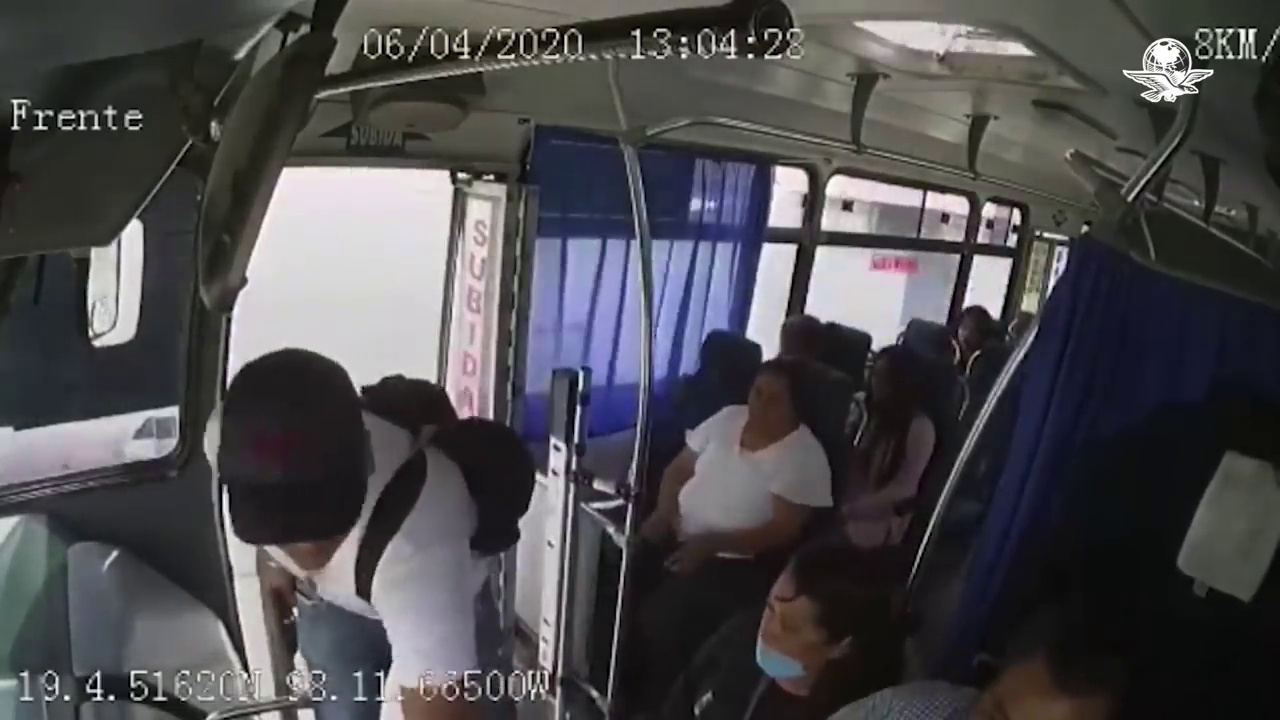pistol: (266, 577, 306, 670)
